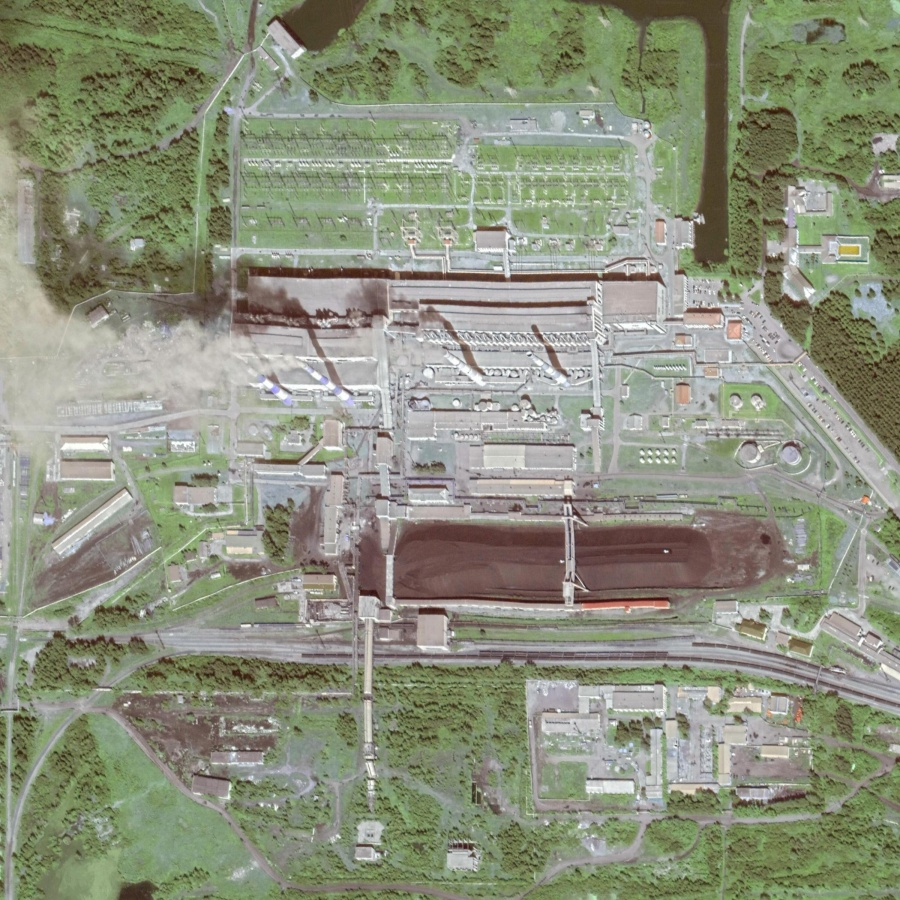PowerPlant: (206, 273, 806, 615)
